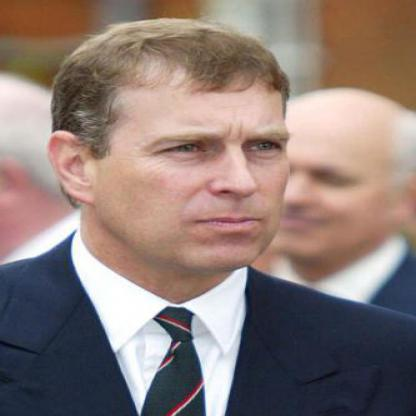face: (84, 22, 312, 274), (242, 90, 400, 258)
